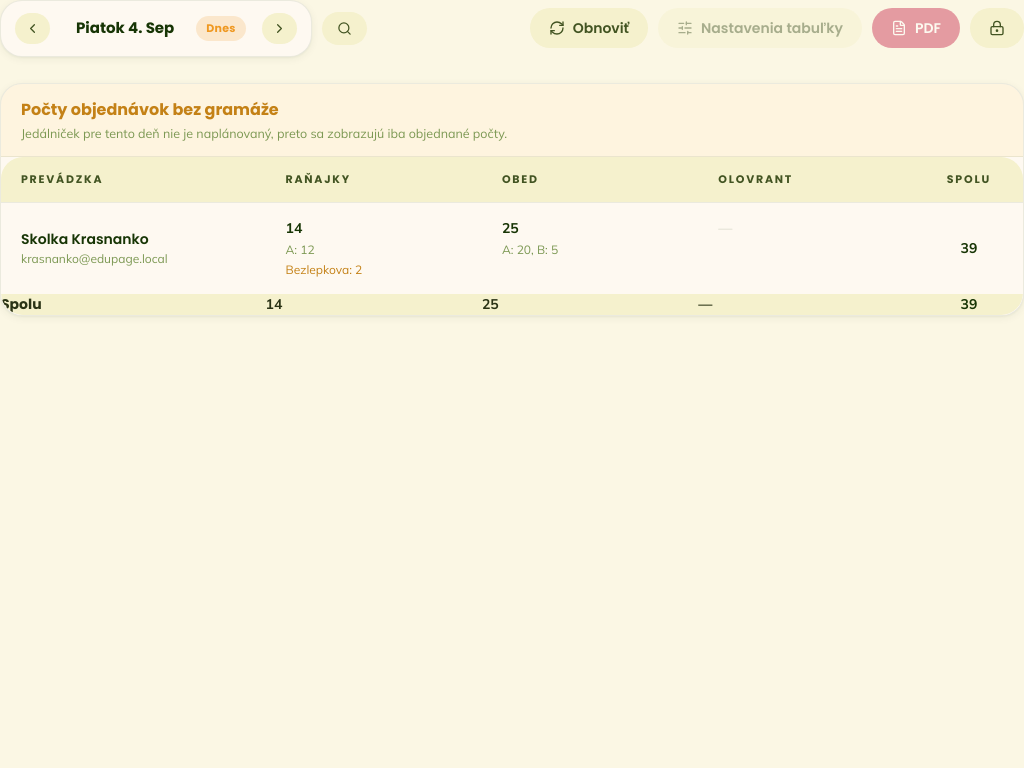
Test case: AdminDashboard › shows Uzamknúť for an open date and closes it after confirmation
The image size is (1024, 768).
Click the button named "uzamknúť": x=997, y=28 970,8 -> 1023,48
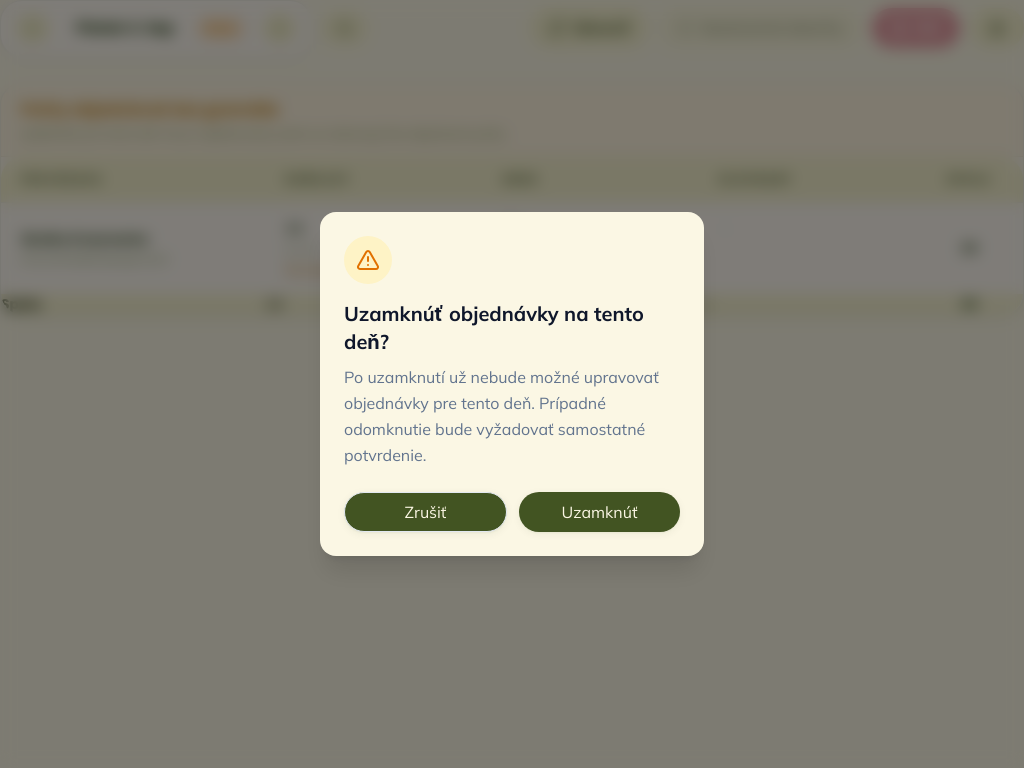
Click the button "Uzamknúť": x=600, y=512 519,492 -> 680,532
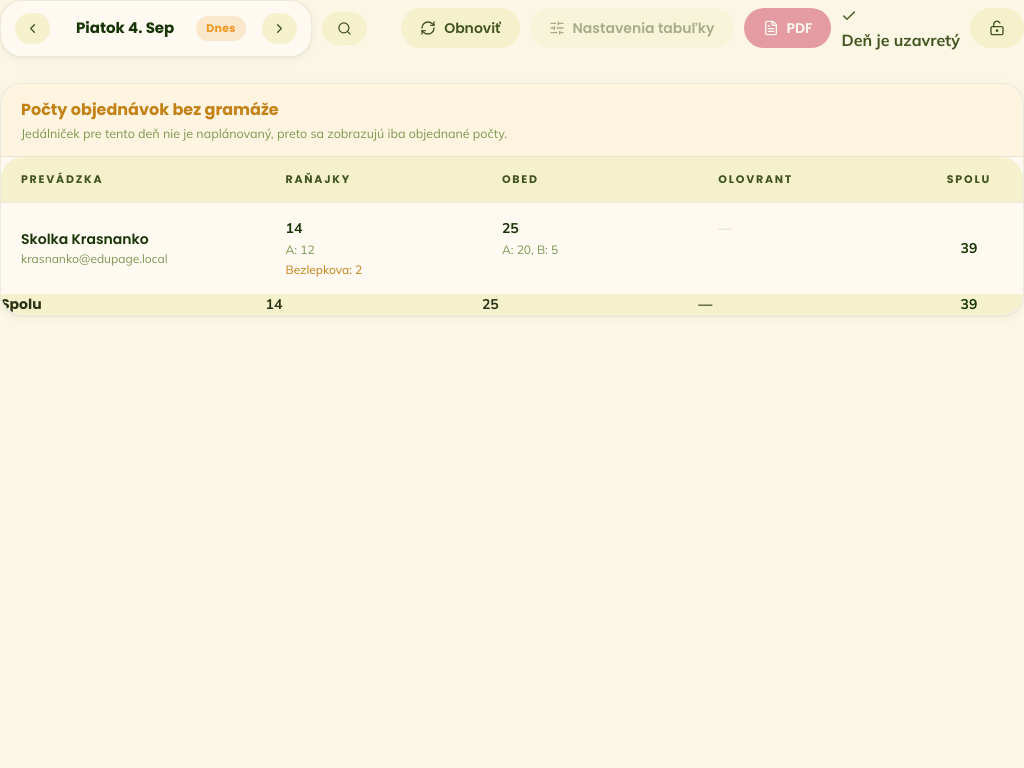
Check: the button "PDF" is shown, box 744,8 -> 832,48
Check: the message reads "Deň je uzavretý", box 842,30 -> 960,50
